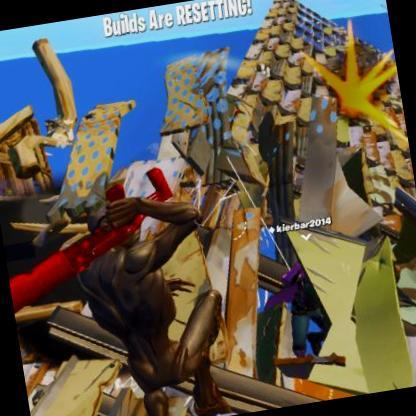person: (281, 274, 334, 360)
